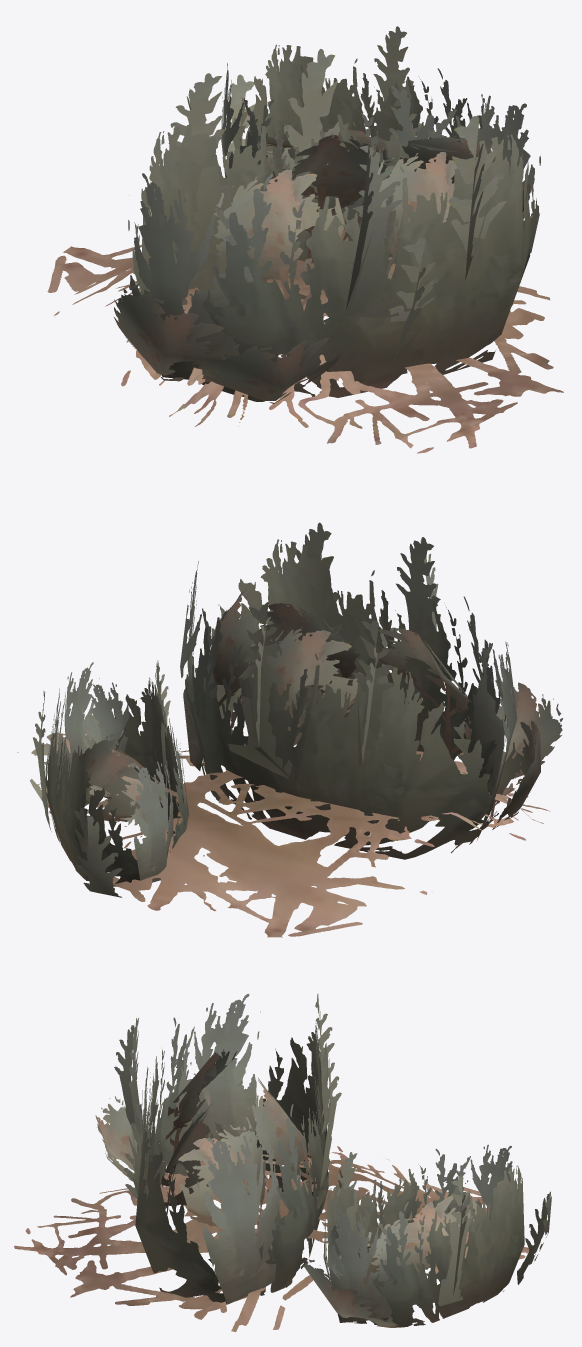
3 renders of one model, top to bottom at view 1: azimuth 30°, elevation 25°; view 2: azimuth 150°, elevation 25°; view 3: azimuth 270°, elevation 25°, orthographic. The views are drawn at different scales.
Visible parts, largest first — view 1: body0_model0_lod0_mesh0; view 2: body0_model0_lod0_mesh0; view 3: body0_model0_lod0_mesh0.
Boxes of the visible parts, <box> form: body0_model0_lod0_mesh0: <box>47,26,563,453</box>; body0_model0_lod0_mesh0: <box>17,522,563,937</box>; body0_model0_lod0_mesh0: <box>14,994,551,1331</box>.
Size of the model in its own units: 13.23 by 7.24 by 14.83.
Materials: 1 (1 with a texture image).
